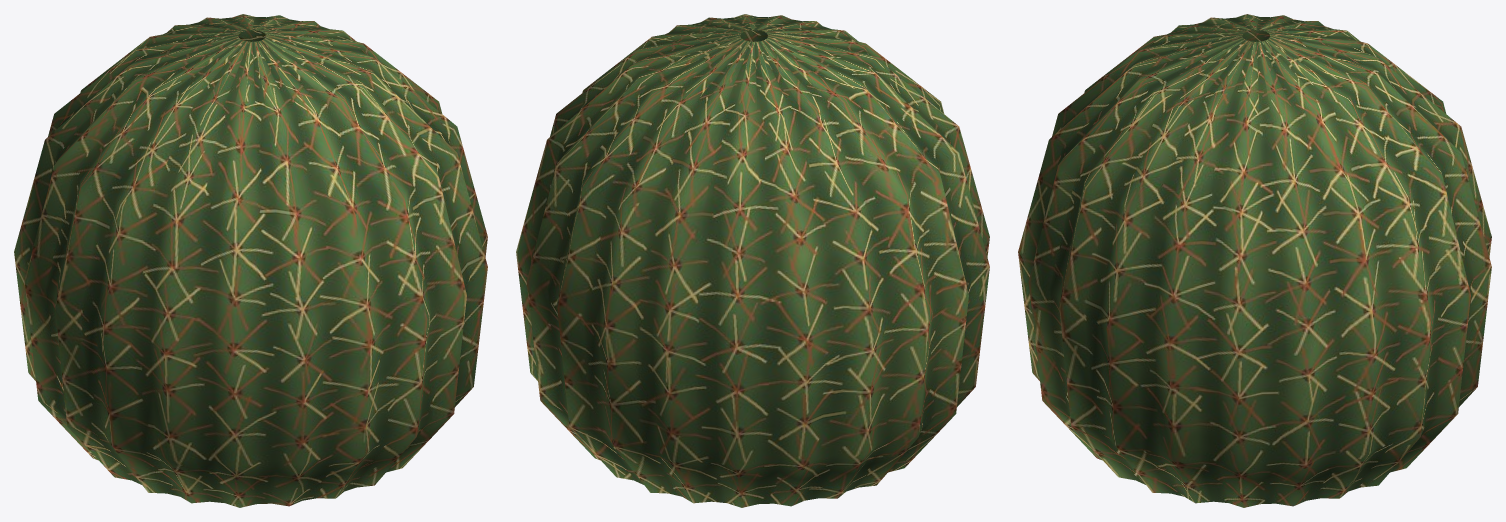
File: cactus_barrel_01.glb
3 renders of one model, left to right at view 1: azimuth 30°, elevation 25°; view 2: azimuth 150°, elevation 25°; view 3: azimuth 270°, elevation 25°, orthographic.
Visible parts, largest first — view 1: cactus_barrel_01; view 2: cactus_barrel_01; view 3: cactus_barrel_01.
Part boxes in pixels (x1,y1,x2,y2): cactus_barrel_01: (14,14,487,507); cactus_barrel_01: (516,14,989,507); cactus_barrel_01: (1018,14,1491,507).
Bounding box in the file's own units: 0.9972 × 1 × 0.9944.
Materials: 1 (1 with a texture image).
